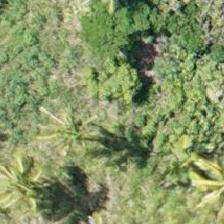coconut_tree: (25, 97, 115, 187), (0, 139, 62, 223)
